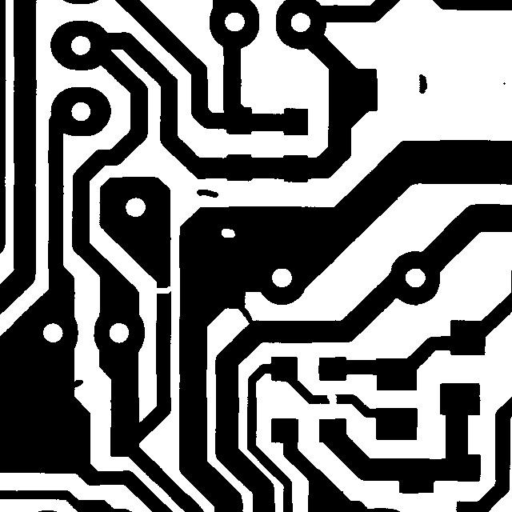copper: (189, 182, 226, 205), (411, 66, 434, 101)
open: (143, 278, 179, 301), (319, 386, 344, 413)
pin-hole: (214, 221, 242, 245)
short: (230, 296, 261, 331)
spur: (62, 372, 90, 398)
